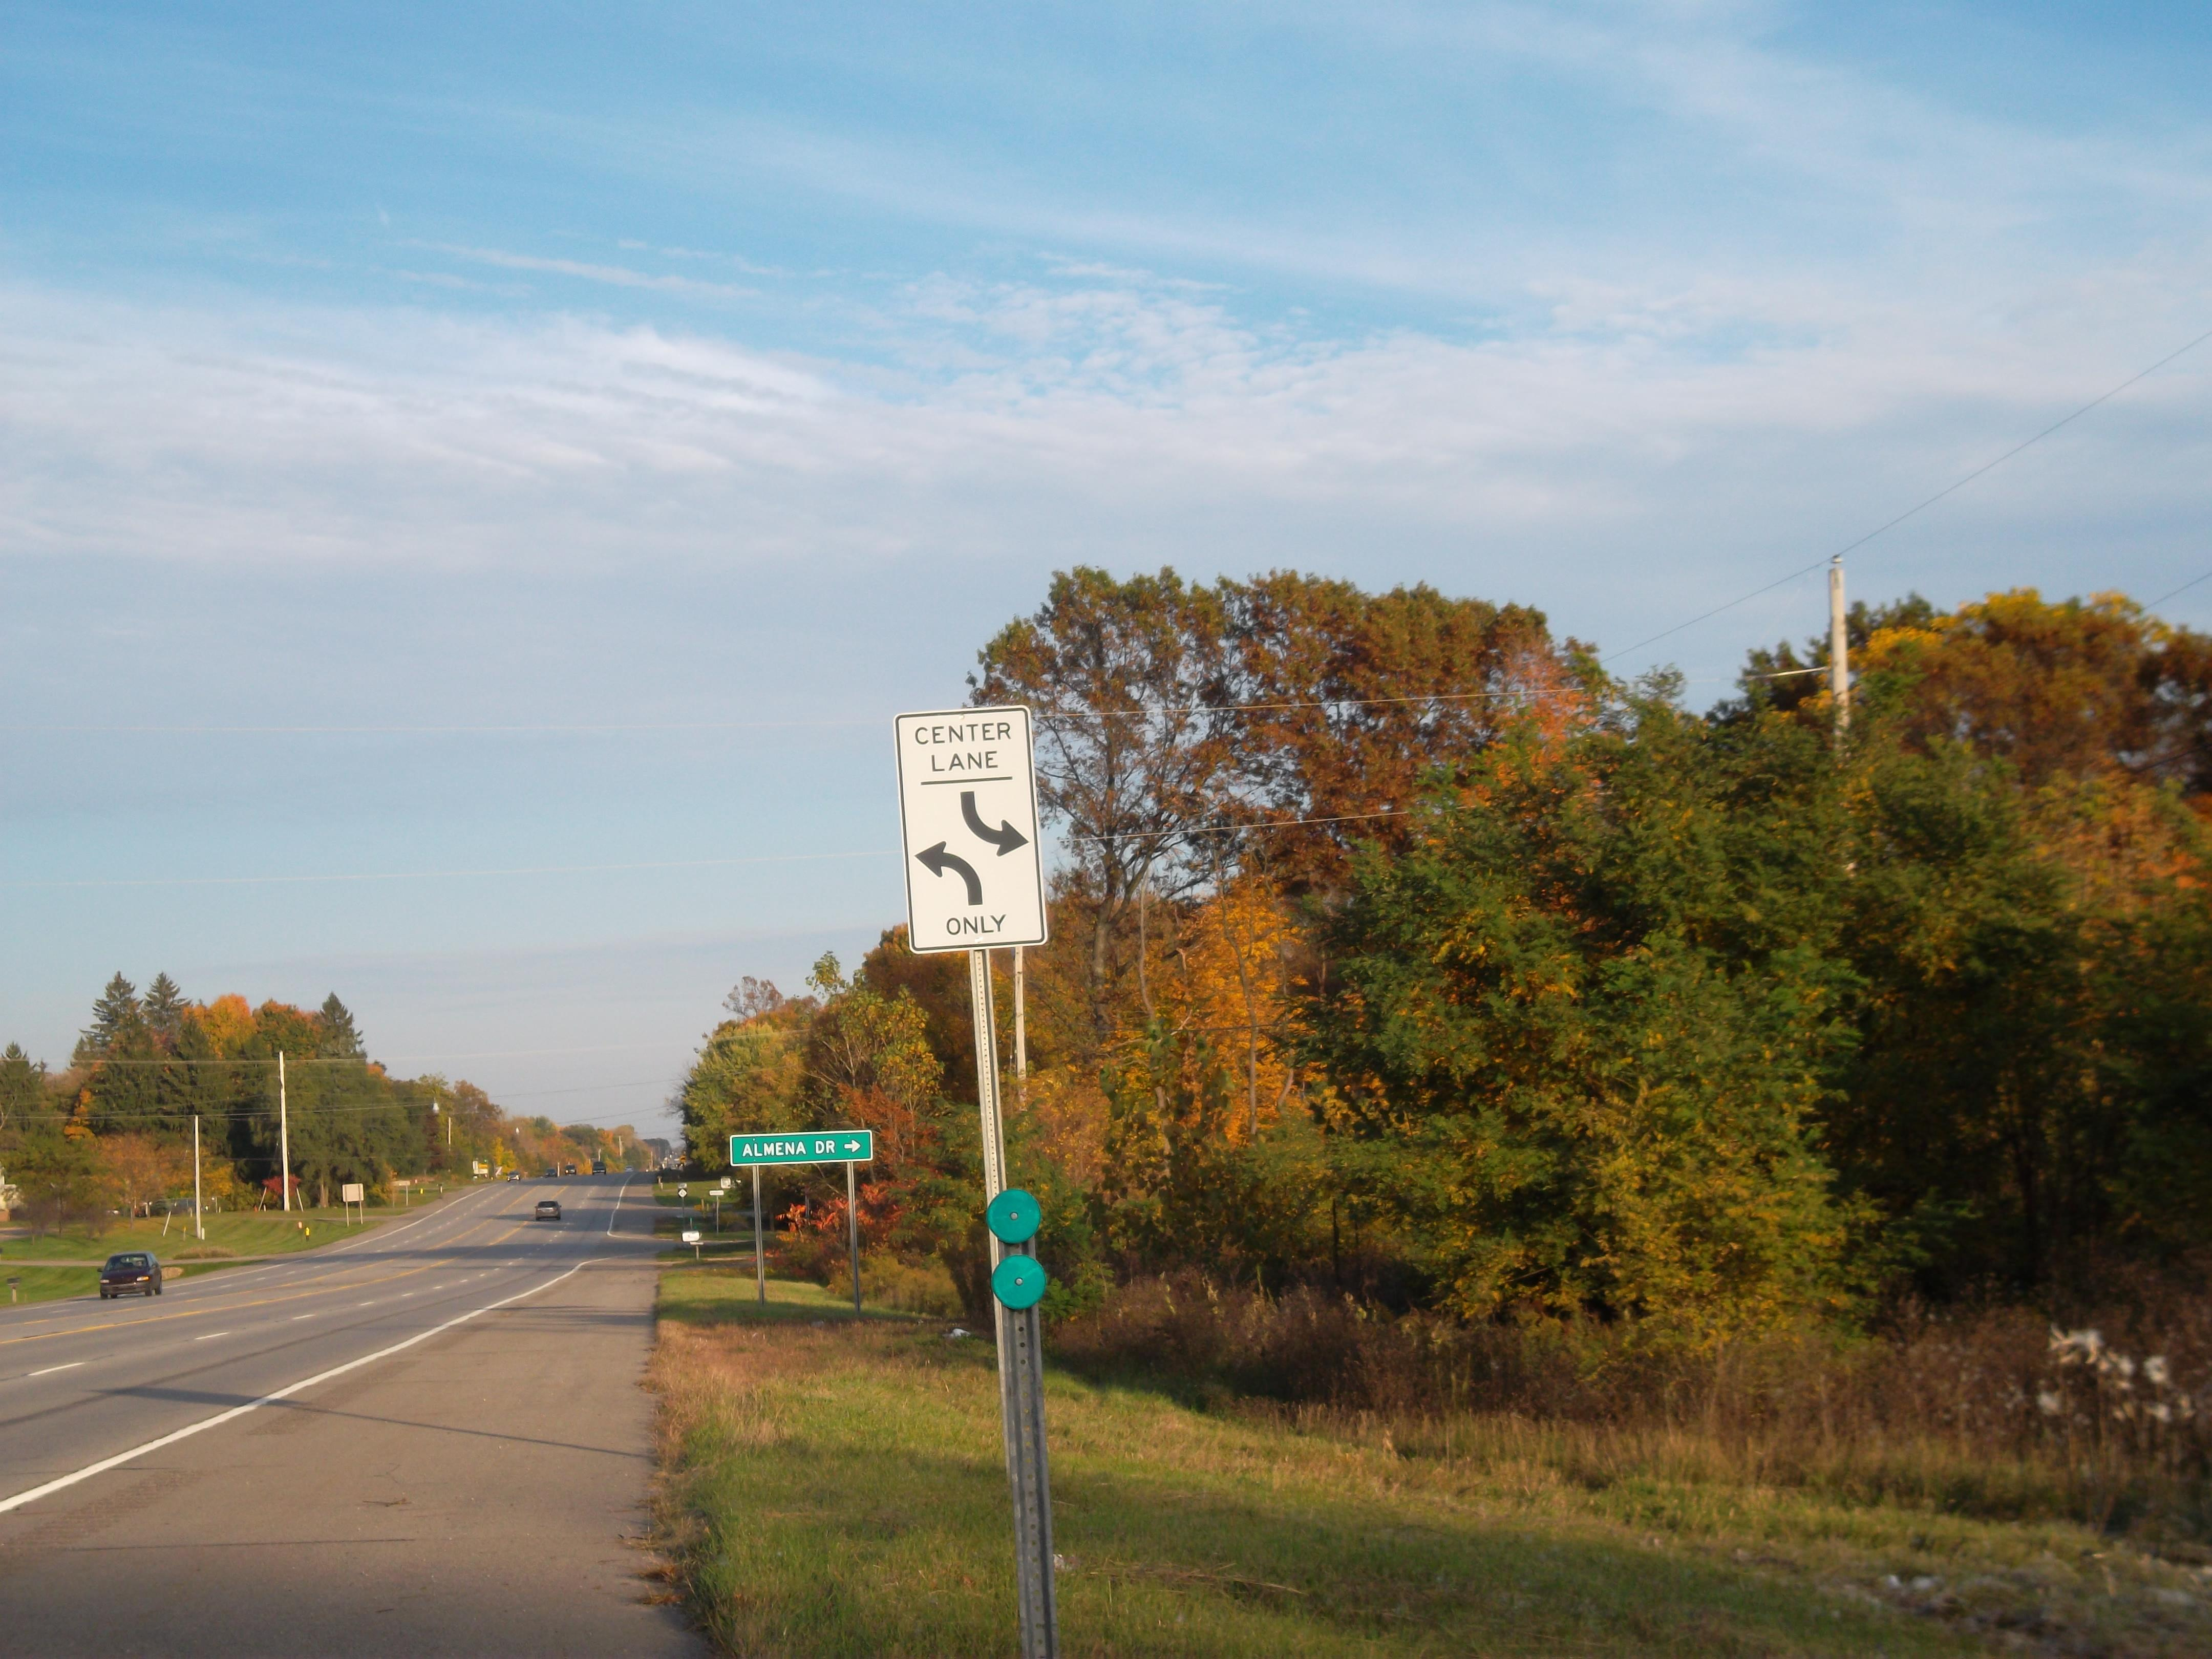regulatory: (895, 695, 1052, 958)
